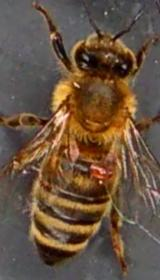varroa_mite: (80, 154, 112, 186)
